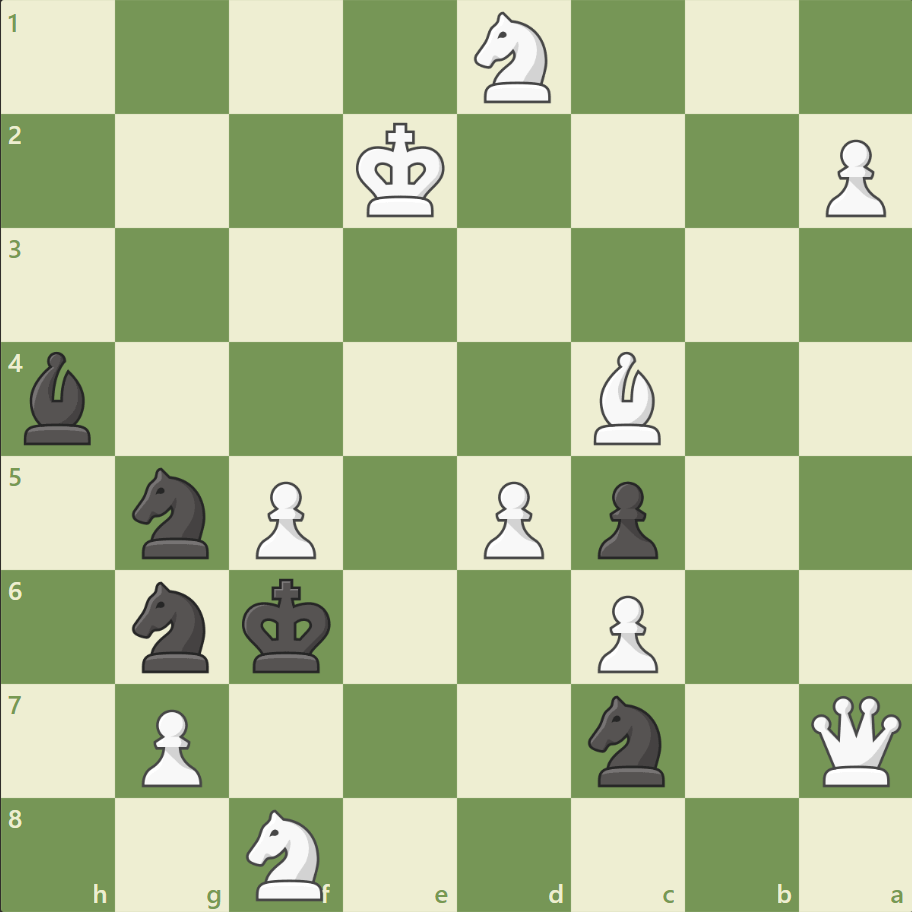B: (585, 347, 669, 449)
K: (351, 117, 451, 225)
N: (465, 7, 562, 110), (238, 802, 335, 904)
P: (133, 700, 208, 791), (474, 473, 549, 564), (247, 473, 322, 564), (588, 586, 662, 677), (815, 132, 889, 223)
Q: (805, 690, 904, 789)
b: (17, 347, 101, 449)
k: (238, 571, 338, 679)
n: (124, 461, 222, 564), (124, 575, 222, 677), (579, 688, 676, 791)
p: (588, 473, 662, 564)
